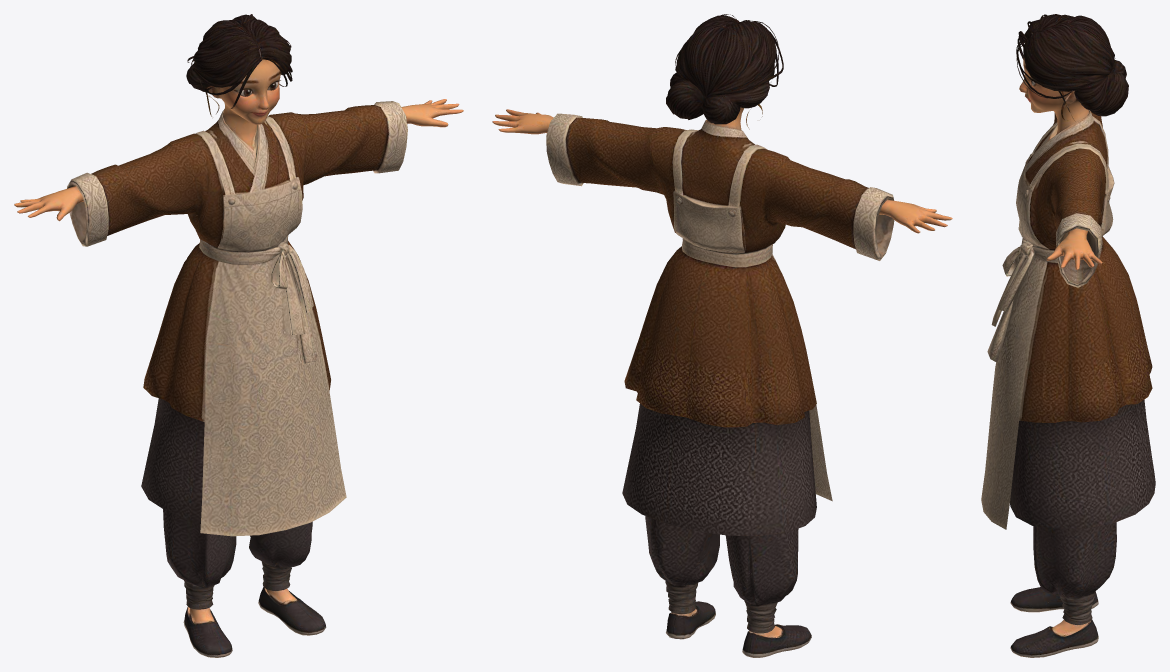
Rendered from tam-mother.glb.
The picture shows the model from 3 angles, left to right: view 1: azimuth 30°, elevation 25°; view 2: azimuth 150°, elevation 25°; view 3: azimuth 270°, elevation 25°; orthographic projection. The views are drawn at different scales.
Parts seen in each view (by area): view 1: tripo_943cc936_e702_4002_9d70_c62b09f70e89; view 2: tripo_943cc936_e702_4002_9d70_c62b09f70e89; view 3: tripo_943cc936_e702_4002_9d70_c62b09f70e89.
Boxes of the visible parts, <box> form: tripo_943cc936_e702_4002_9d70_c62b09f70e89: <box>14,14,463,657</box>; tripo_943cc936_e702_4002_9d70_c62b09f70e89: <box>492,14,952,657</box>; tripo_943cc936_e702_4002_9d70_c62b09f70e89: <box>981,14,1155,657</box>.
Size of the model in its own units: 0.7651 by 0.9995 by 0.2603.
Materials: 1 (1 with a texture image).
